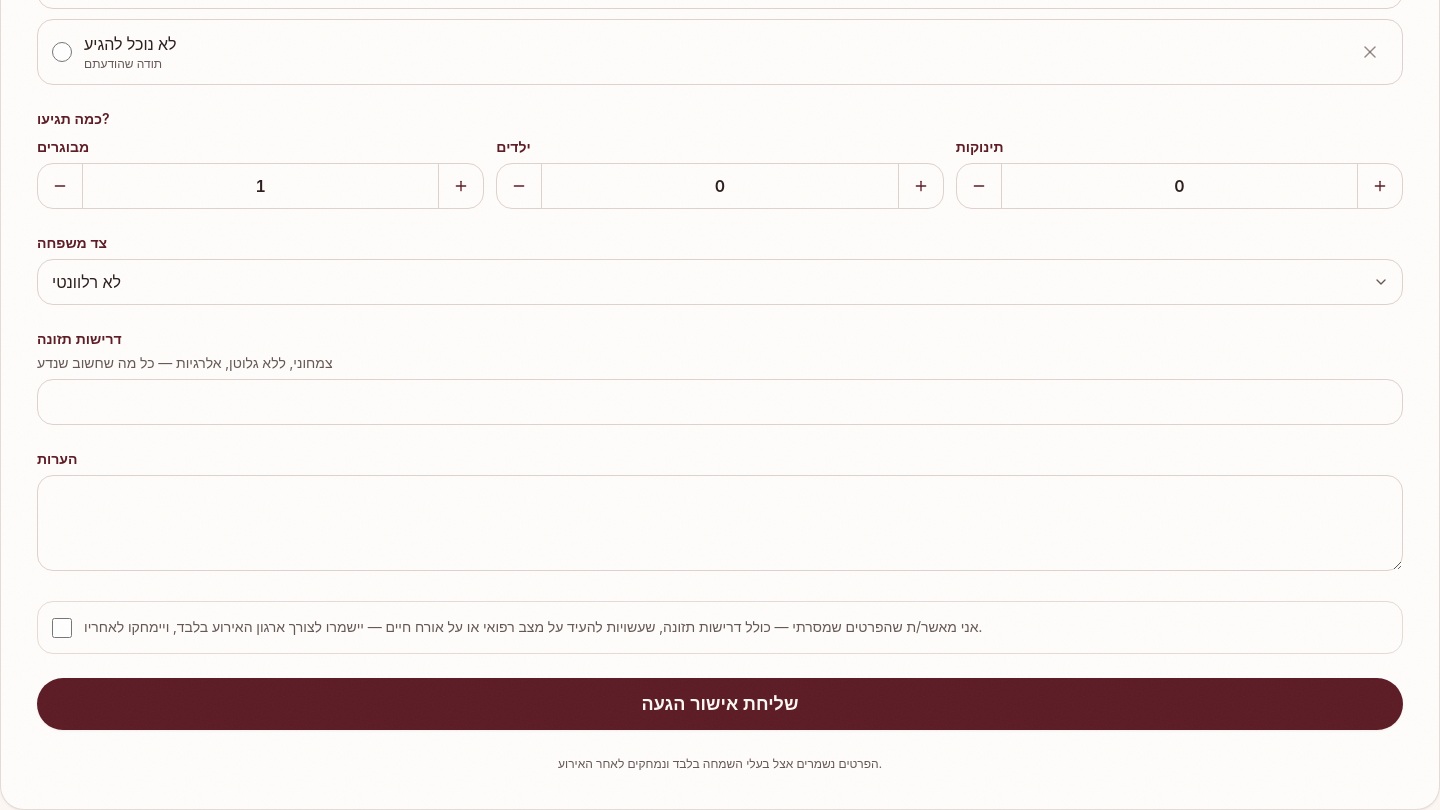
Scenario: RsvpForm › after a rejected submission › keeps the counts hidden when the rejected answer was a decline
The image size is (1440, 810).
(page scrolled)
Step 1. Click the button "שליחת אישור הגעה" → click(720, 704), box 37,678 -> 1403,730
(page scrolled)
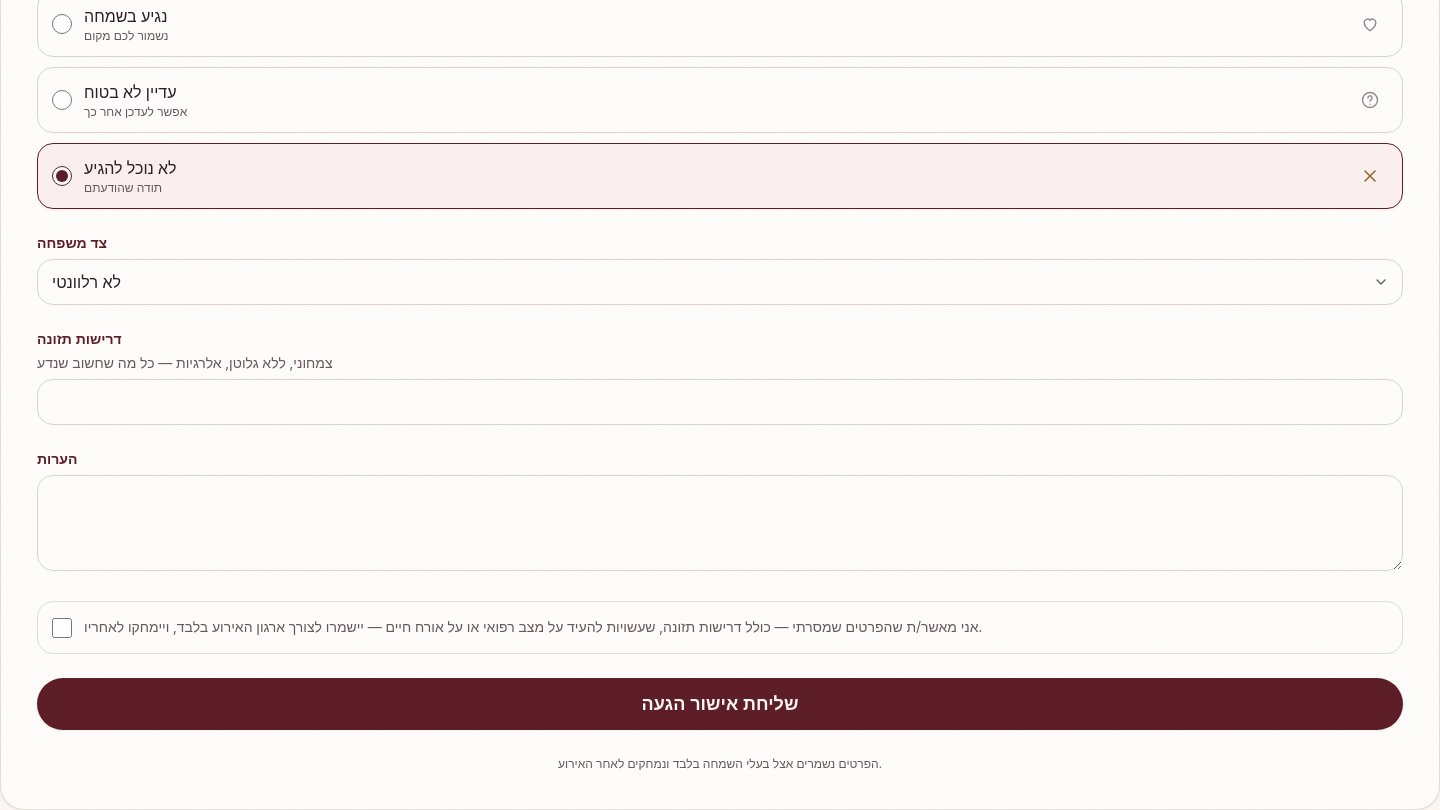
Expected: the radio button labelled "לא נוכל להגיע" is checked, 52,166 -> 72,186
Expected: the label labelled "מבוגרים" is gone
